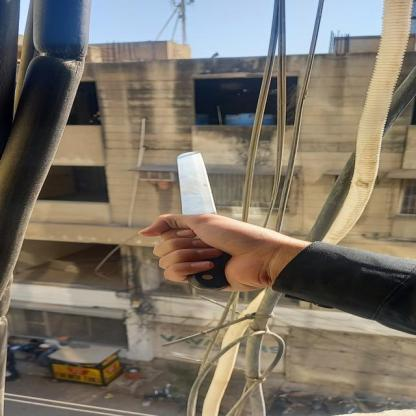Knife: (168, 147, 234, 292)
